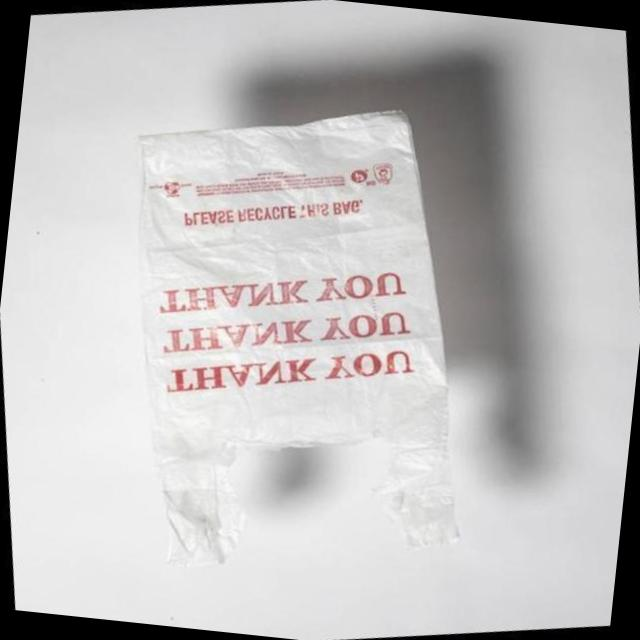KantongPlastik: (91, 81, 504, 594)
